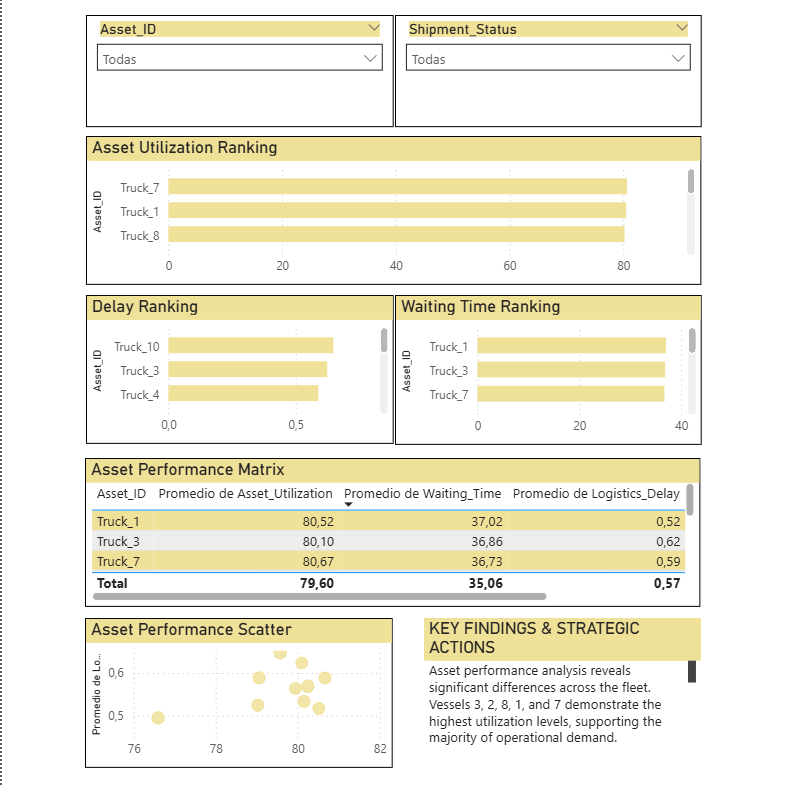

Layout of this report page (visuals, bound fields, positions):
{"tool":"powerbi","page":{"name":"Asset Performance Analysis","canvas":[800,800],"ordinal":2},"visuals":[{"type":"slicer","fields":{"Values":["tbl_logistics.Asset_ID"]},"box":[84.9,22.1,310.3,112.8],"z":0},{"type":"slicer","fields":{"Values":["tbl_logistics.Shipment_Status"]},"box":[396.2,22.1,309.3,112.8],"z":1000},{"type":"barChart","title":"Asset Utilization Ranking","fields":{"Category":["tbl_logistics.Asset_ID"],"Y":["Avg(tbl_logistics.Asset_Utilization)"]},"box":[84.9,143.6,619.6,149.8],"z":2000},{"type":"barChart","title":"Delay Ranking","fields":{"Category":["tbl_logistics.Asset_ID"],"Y":["Avg(tbl_logistics.Logistics_Delay)"]},"box":[84.9,304.1,310.3,149.8],"z":3000},{"type":"barChart","title":"Waiting Time Ranking","fields":{"Category":["tbl_logistics.Asset_ID"],"Y":["Avg(tbl_logistics.Waiting_Time)"]},"box":[396.2,304.1,309.3,150.8],"z":4000},{"type":"tableEx","title":"Asset Performance Matrix","fields":{"Values":["tbl_logistics.Asset_ID","Avg(tbl_logistics.Asset_Utilization)","Avg(tbl_logistics.Waiting_Time)","Avg(tbl_logistics.Logistics_Delay)","Avg(tbl_logistics.Inventory_Level)"]},"box":[83.6,468.5,619.6,150.1],"z":5000},{"type":"scatterChart","title":"Asset Performance Scatter","fields":{"X":["Avg(tbl_logistics.Asset_Utilization)"],"Y":["Avg(tbl_logistics.Logistics_Delay)"],"Category":["tbl_logistics.Asset_ID"],"Size":["Avg(tbl_logistics.Inventory_Level)"]},"box":[83.8,629.4,309.9,150.8],"z":6000},{"type":"textbox","title":"KEY FINDINGS & STRATEGIC ACTIONS","box":[424.8,629.4,278.8,150.8],"z":7000}]}

Visuals, with their boxes in screenshot pixels (x1, y1, x2, y2), scaled from the page's 800x800 canvas onto the 796x787 screenshot:
slicer - tbl_logistics.Asset_ID: 84 22 393 133
slicer - tbl_logistics.Shipment_Status: 394 22 702 133
"Asset Utilization Ranking" barChart: 84 141 701 289
"Delay Ranking" barChart: 84 299 393 447
"Waiting Time Ranking" barChart: 394 299 702 448
"Asset Performance Matrix" tableEx: 83 461 700 609
"Asset Performance Scatter" scatterChart: 83 619 392 768
"KEY FINDINGS & STRATEGIC ACTIONS" textbox: 423 619 700 768
